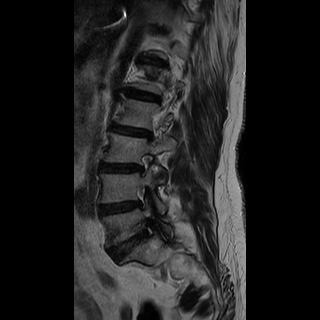RFS0: (132, 148, 156, 180)
